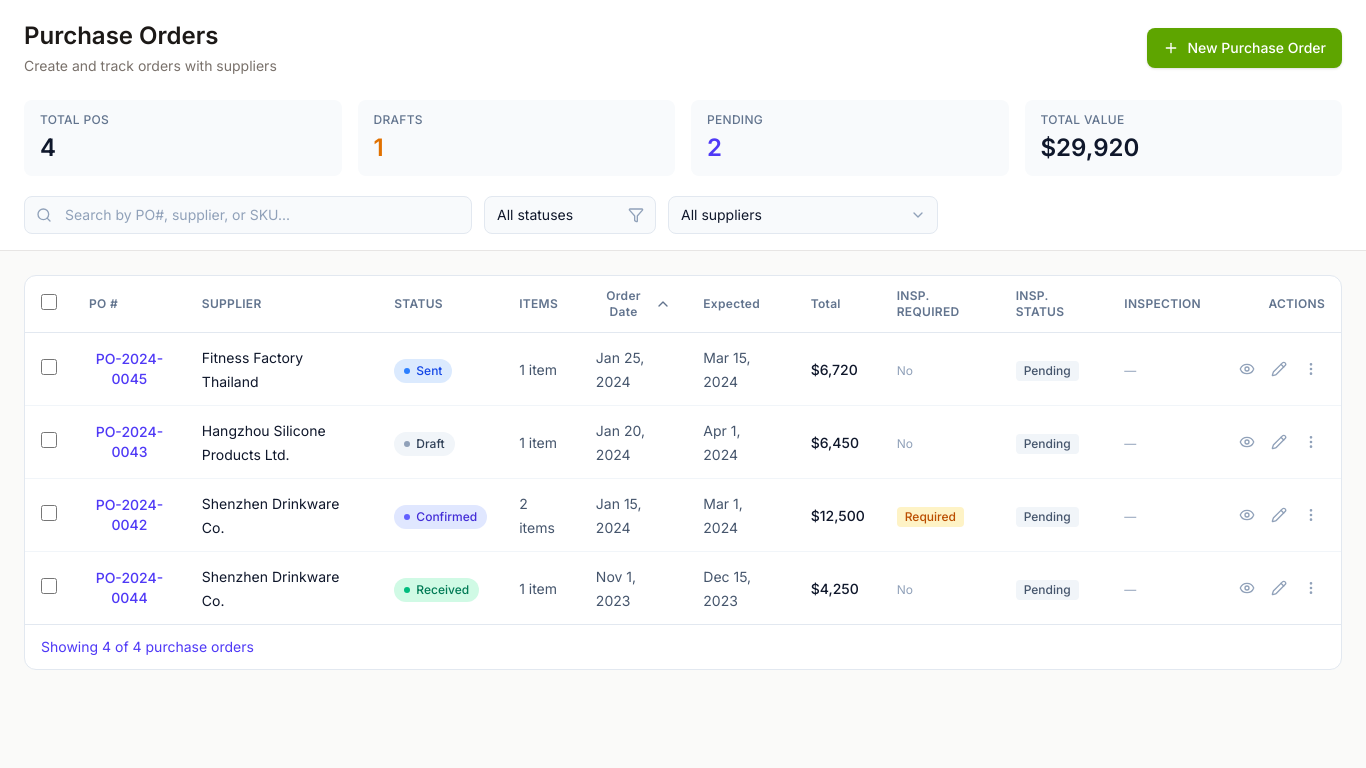
Test case: Purchase Orders - Search and Filter › filters by PO number search
In the field with placeholder "Search by PO#, supplier, or SKU...": x=248, y=215 left=24, top=196, right=472, bottom=234, type "0042"
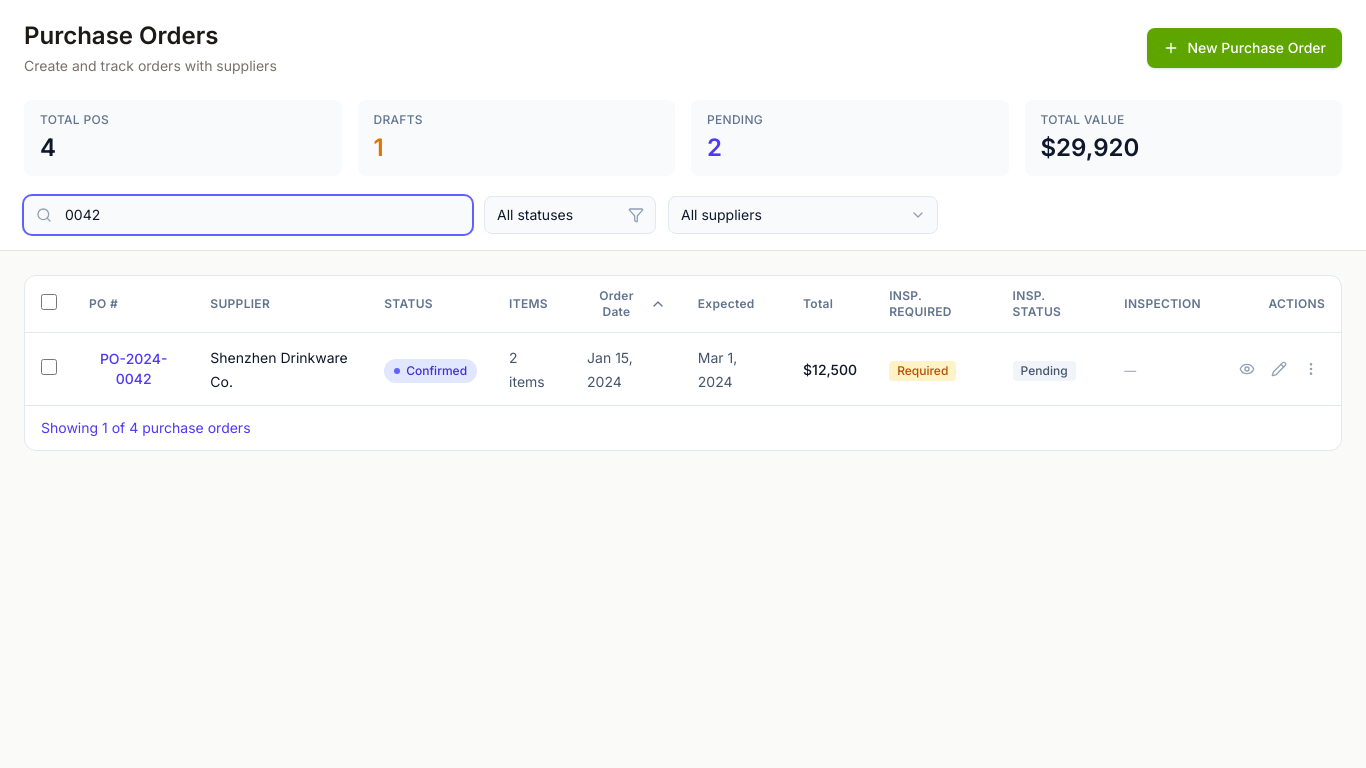
Expected: the button "PO-2024-0042" is shown, left=89, top=348, right=178, bottom=388
Result: the button "PO-2024-0043" is gone
